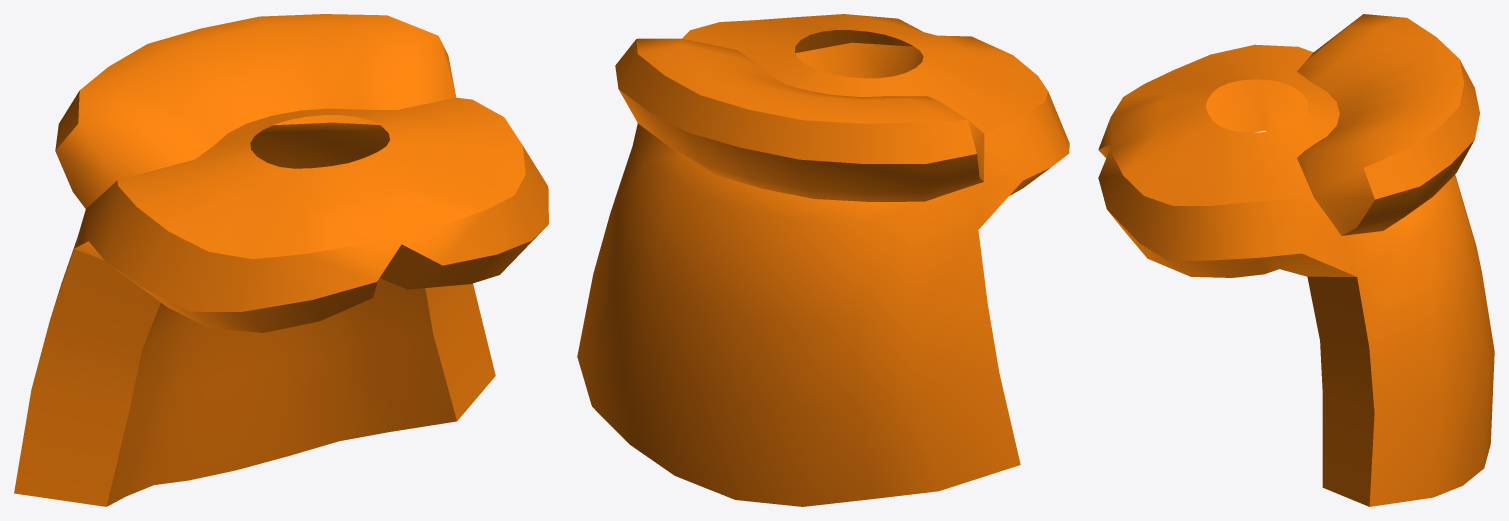
File: character_fishermanCoat.obj
3 renders of one model, left to right at view 1: azimuth 30°, elevation 25°; view 2: azimuth 150°, elevation 25°; view 3: azimuth 270°, elevation 25°, orthographic. The views are drawn at different scales.
Visible parts, largest first — view 1: character_fishermanCoat_Cube.113; view 2: character_fishermanCoat_Cube.113; view 3: character_fishermanCoat_Cube.113.
Boxes of the visible parts, x1,y1,x2,y2 form: character_fishermanCoat_Cube.113: [14, 14, 548, 506]; character_fishermanCoat_Cube.113: [577, 14, 1069, 506]; character_fishermanCoat_Cube.113: [1098, 14, 1494, 506].
Size of the model in its own units: 1.03 by 0.8629 by 0.8351.
